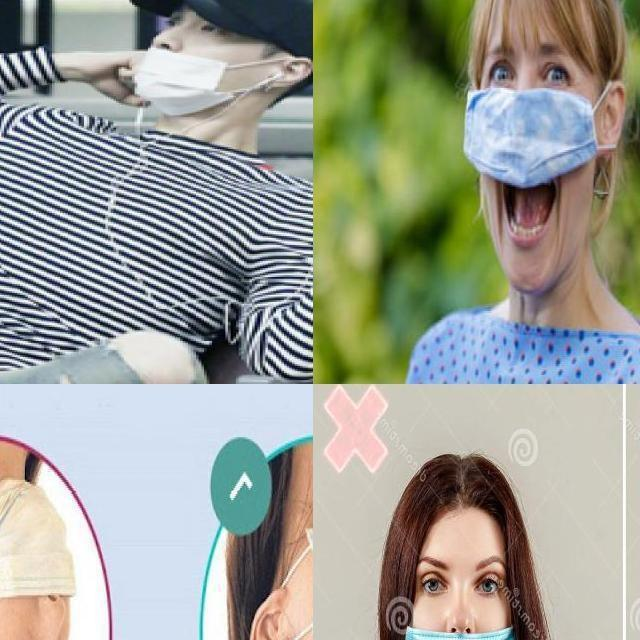hairnet: (470, 83, 598, 289), (143, 32, 282, 113), (0, 490, 79, 625), (412, 606, 509, 639)
